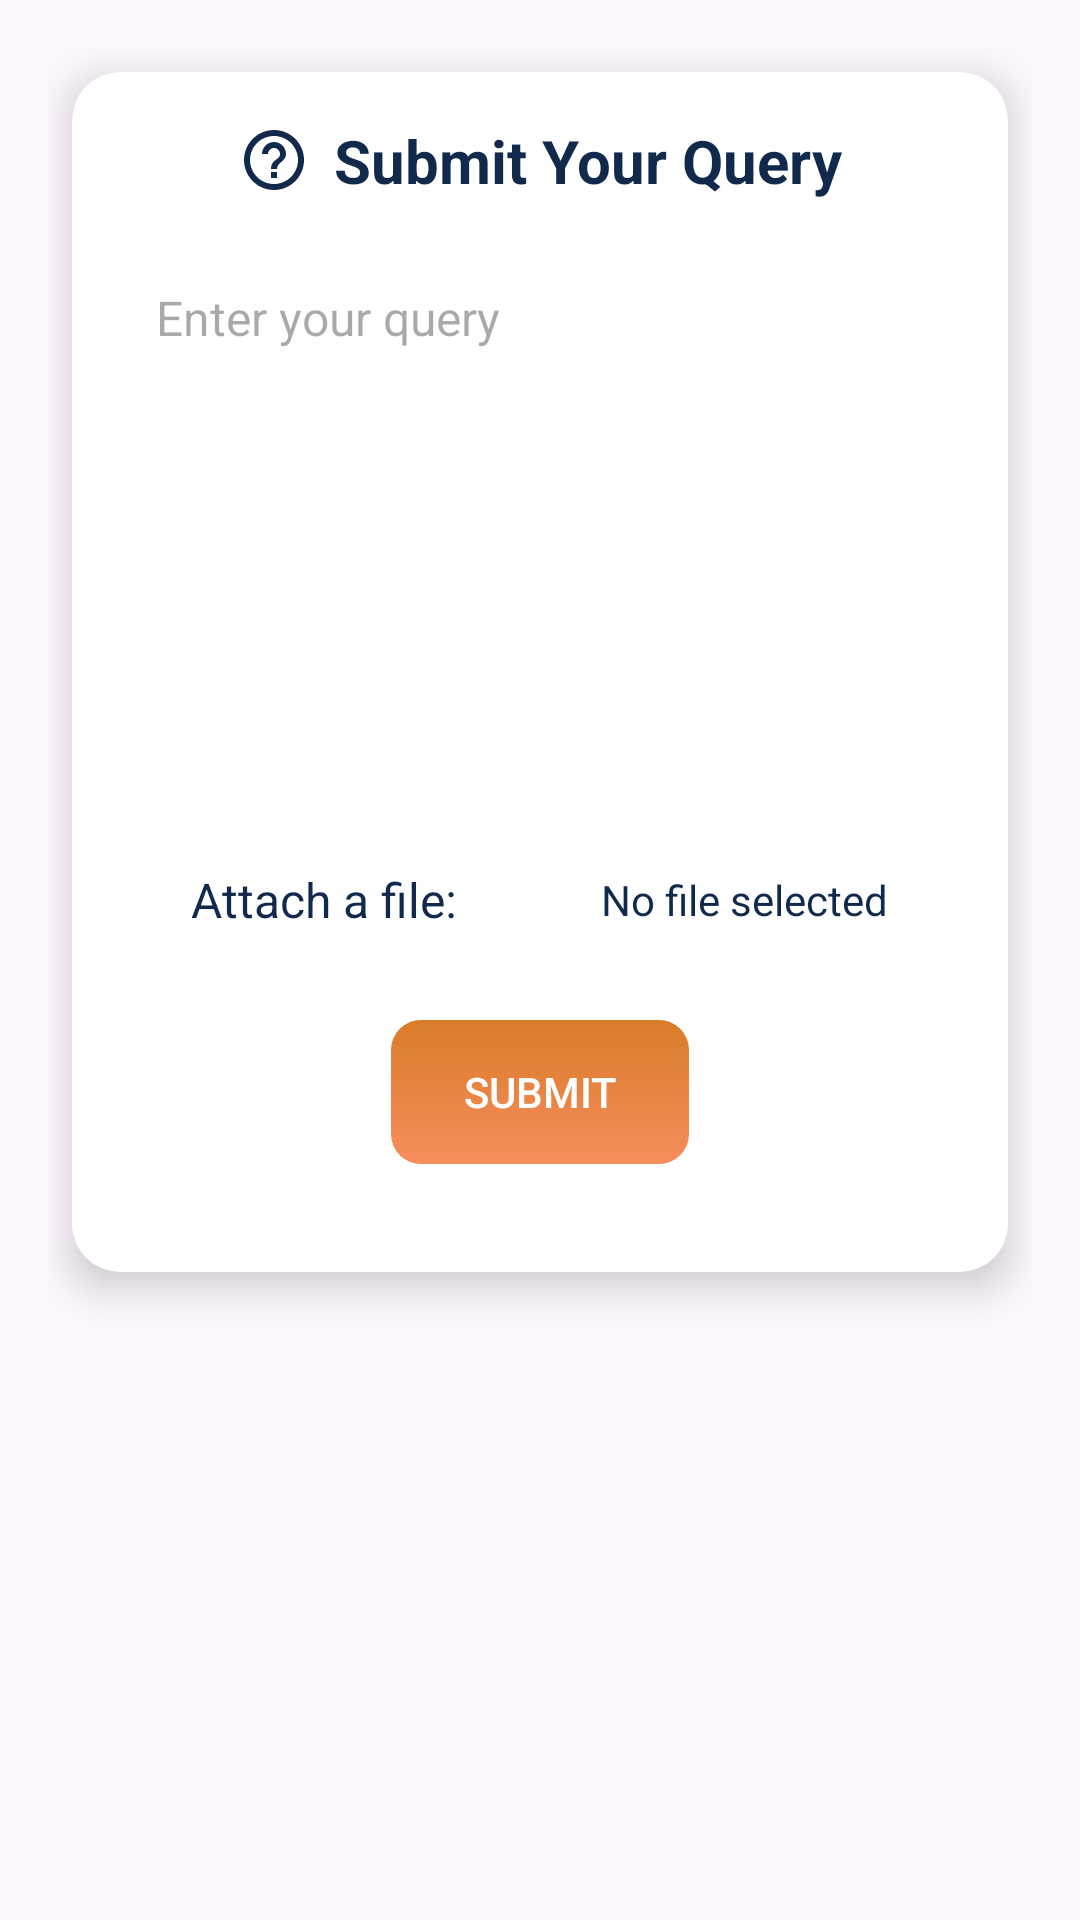

Icon click points for this 1080 x 1920 phone screenshot, format [x,y]:
help: [274,160]
